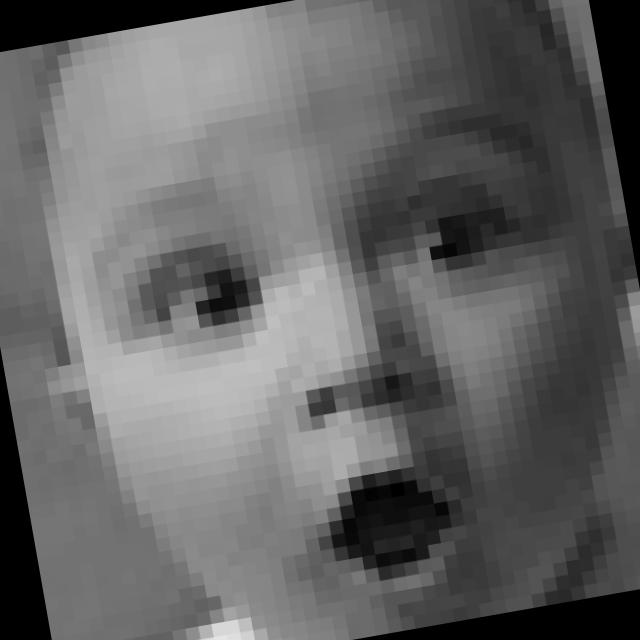surprise: (76, 87, 621, 640)
